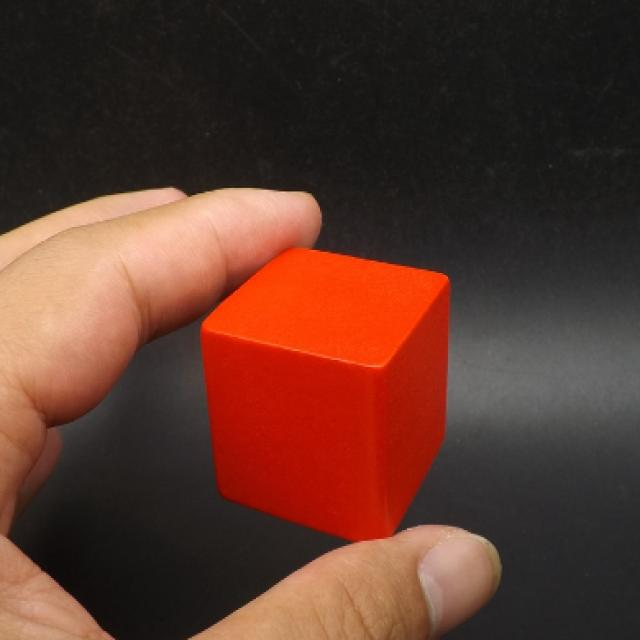red cube: (199, 243, 455, 546)
